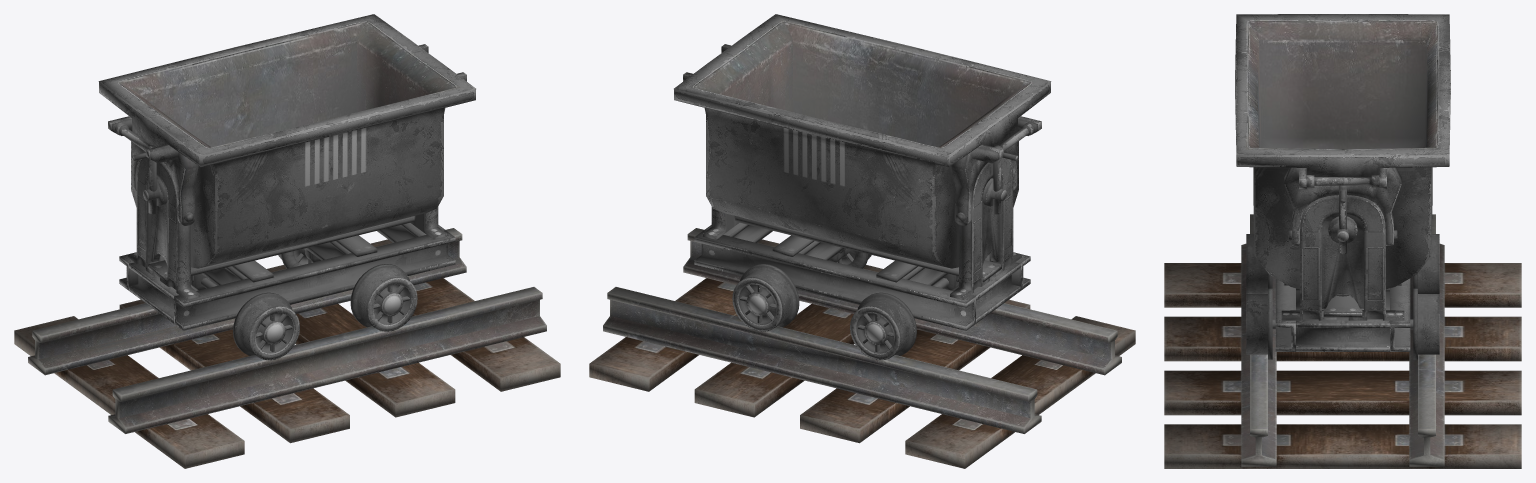
The model's file is mine_cart_and_rail.fbx.
3 renders of one model, left to right at view 1: azimuth 30°, elevation 25°; view 2: azimuth 150°, elevation 25°; view 3: azimuth 270°, elevation 25°, orthographic. The views are drawn at different scales.
Parts seen in each view (by area): view 1: mineCart_01, mineCart_rail_straight_01; view 2: mineCart_01, mineCart_rail_straight_01; view 3: mineCart_01, mineCart_rail_straight_01.
Boxes of the visible parts, x1,y1,x2,y2 form: mineCart_01: (98, 14, 475, 360); mineCart_rail_straight_01: (14, 228, 560, 468); mineCart_01: (674, 14, 1051, 360); mineCart_rail_straight_01: (589, 228, 1135, 468); mineCart_01: (1235, 14, 1450, 359); mineCart_rail_straight_01: (1164, 214, 1521, 468).
Bounding box in the file's own units: 200 × 125 × 140.
